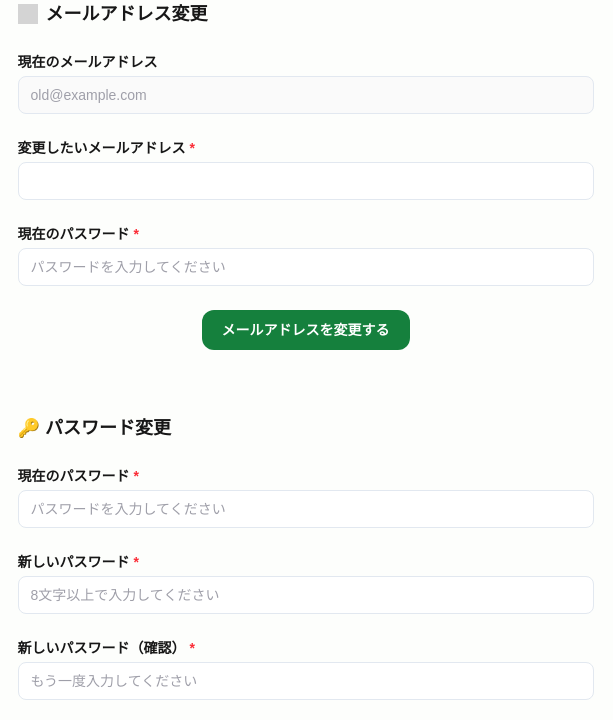
Test: AccountForms（GATE-41: メール変更フォームの現在のパスワード欄を独立させる） › メール変更_現在のパスワードが誤り_エラーがメール変更フォーム自身に表示されパスワード変更フォームには表示されない
In the field below "変更したいメールアドレス": (306, 181) [18,162,594,200], type "new@example.com"
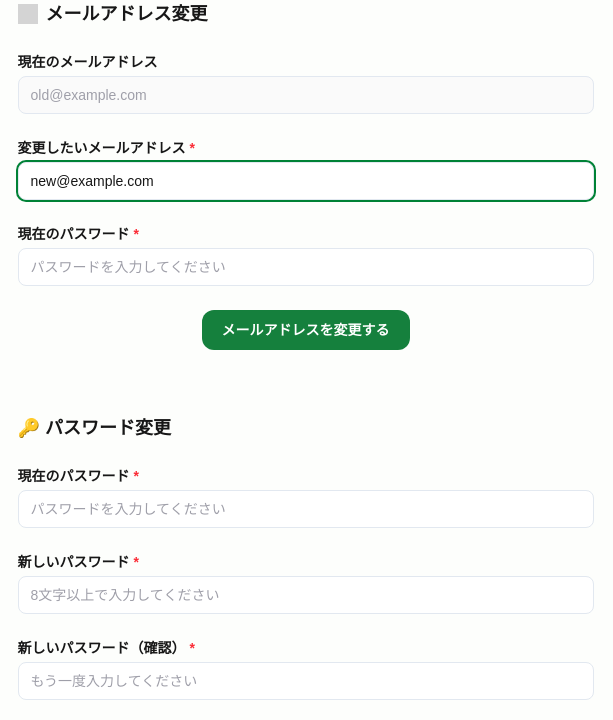
In the password field with placeholder "パスワードを入力してください" below "変更したいメールアドレス": (306, 267) [18,248,594,286], type "wrong-password"
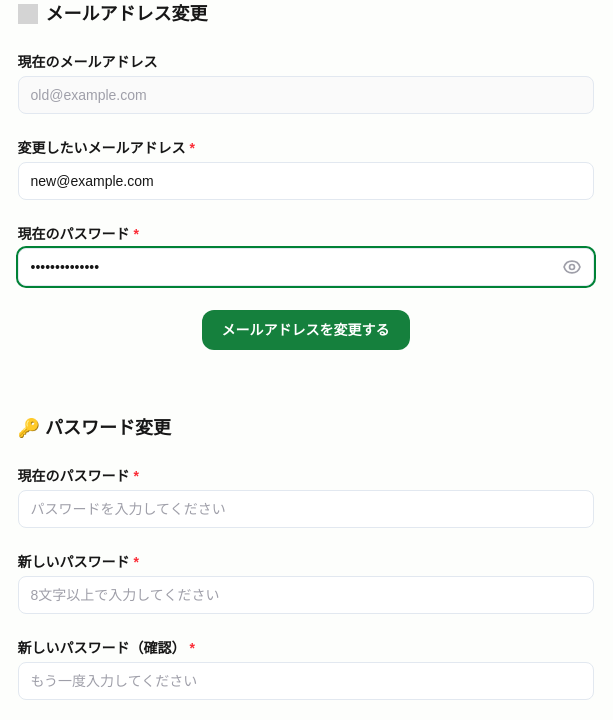
Click the button "メールアドレスを変更する": (306, 330) [202,310,410,350]
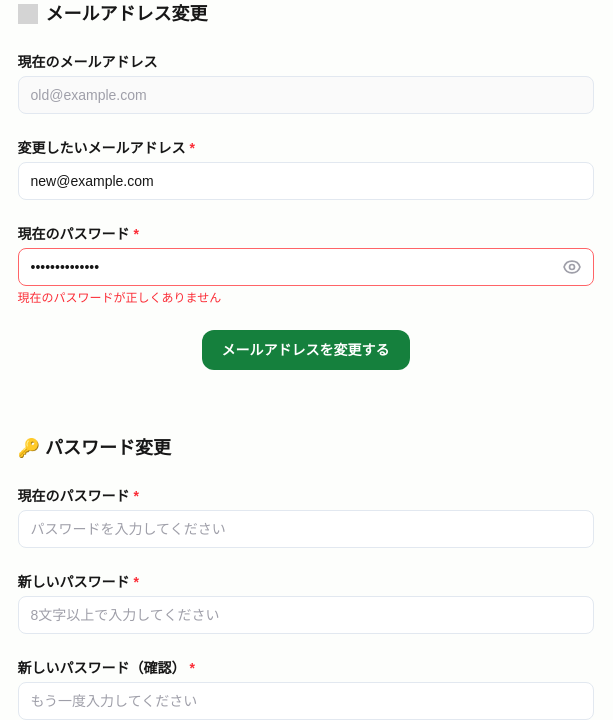
Now the text "現在のパスワードが正しくありません" is shown once, box [18,291,221,305]
